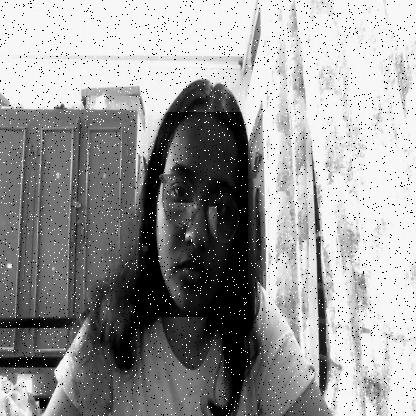Normal: (148, 112, 248, 317)
